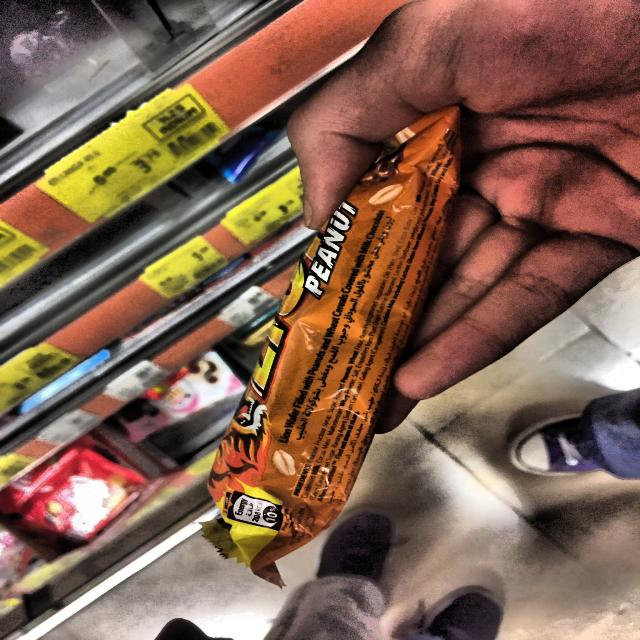Plastic: (192, 107, 478, 600)
